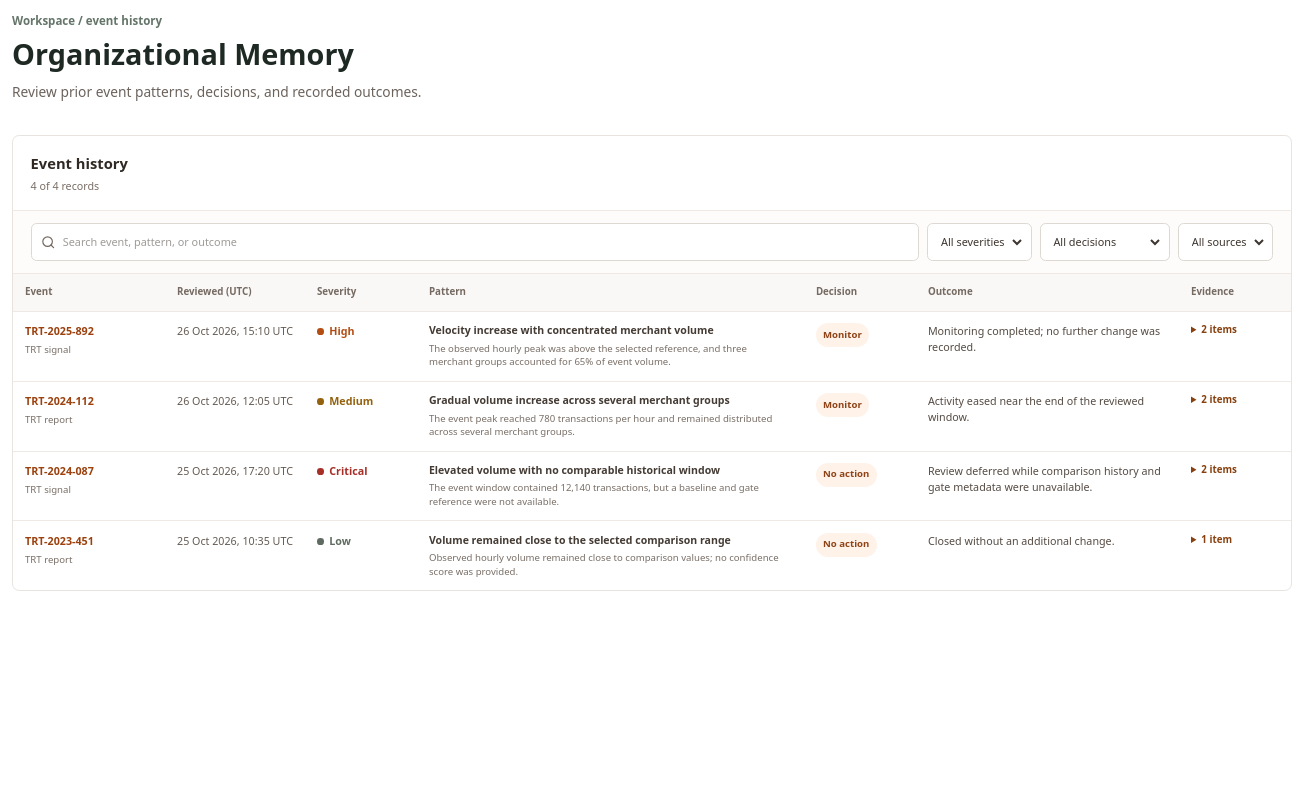
Test: MemoryPage › filters history and preserves event links and evidence
The image size is (1292, 812).
Expected: the text "4 of 4 records" is shown, [31,179,99,193]
Select "Critical" in the 1st dropdown named "Filter by severity": (981, 242) [937,224,1025,260]
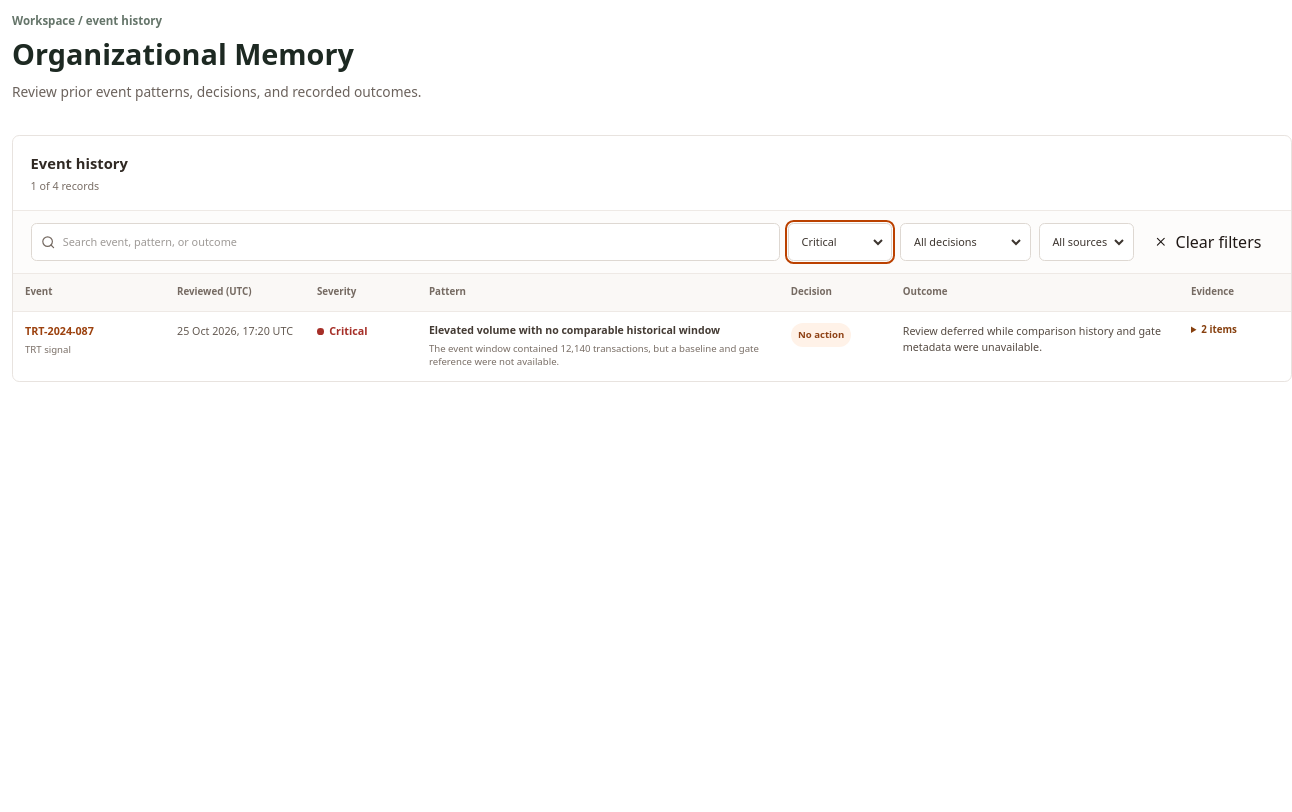
Expected: the text "1 of 4 records" is shown, [31,179,99,193]
Select "All severities" in the 1st dropdown named "Filter by severity": (842, 242) [798,224,886,260]
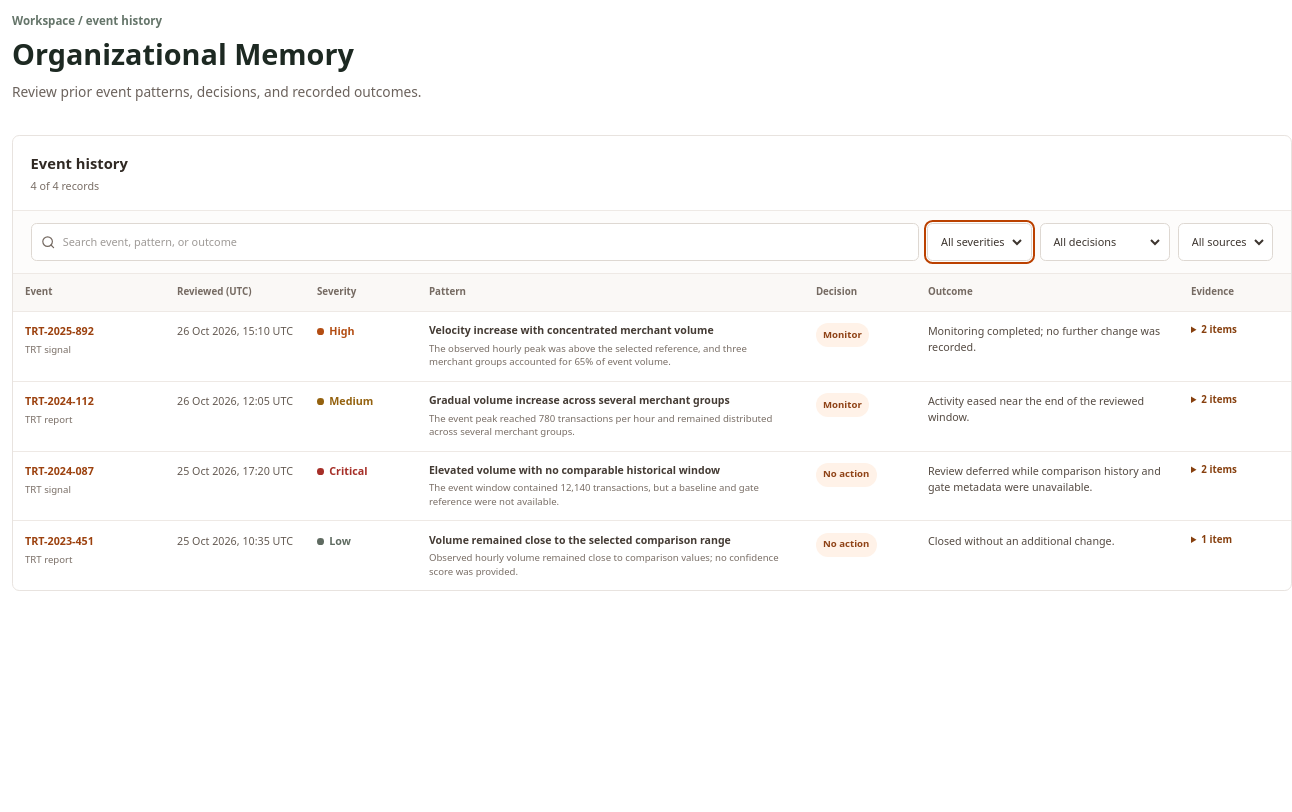
Click the heading "2 items" in the row of "TRT-2025-892": (1219, 329) [1201,323,1237,336]
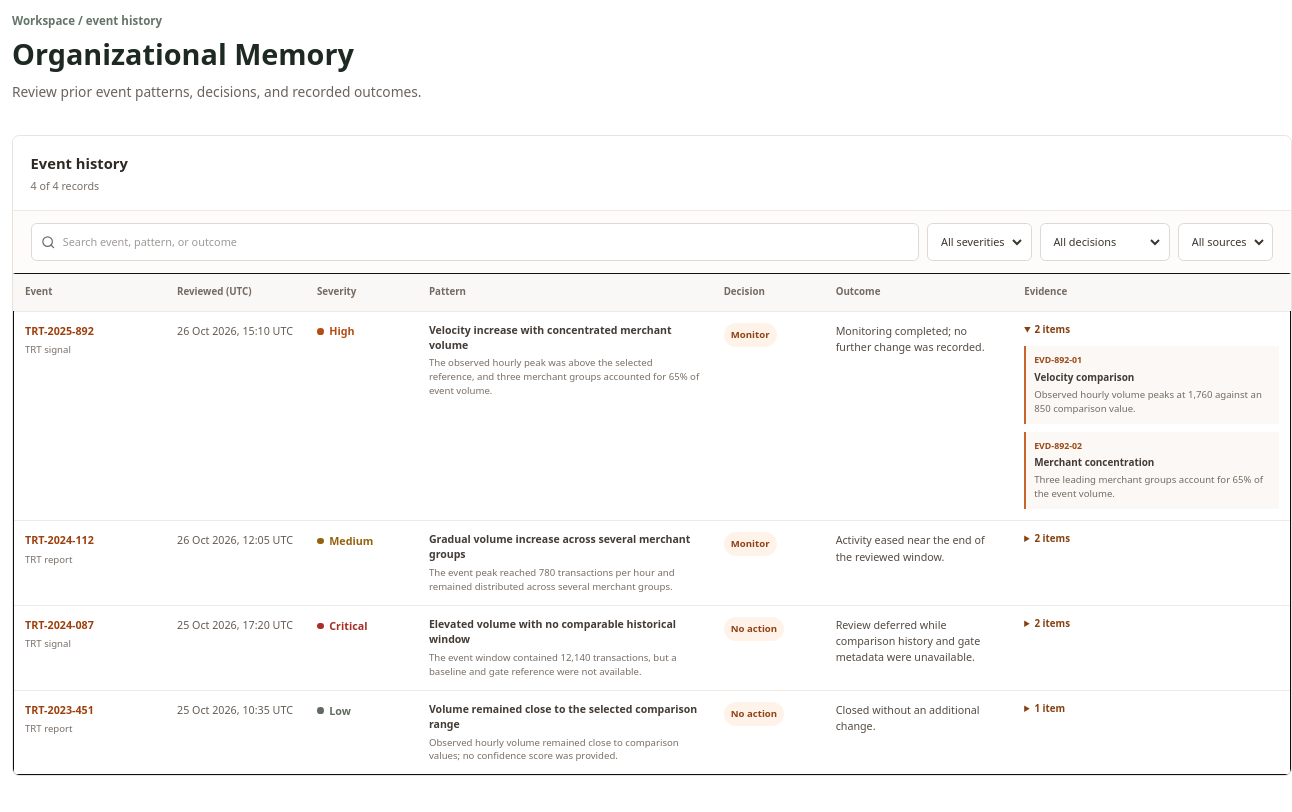
Expected: the text "EVD-892-01" is shown, [1034,354,1082,366]
Expected: the text "Velocity comparison" is shown, [1034,370,1134,384]
In the search field named "Search history": (486, 242) [63,224,909,260], type "TRT-2025-892"
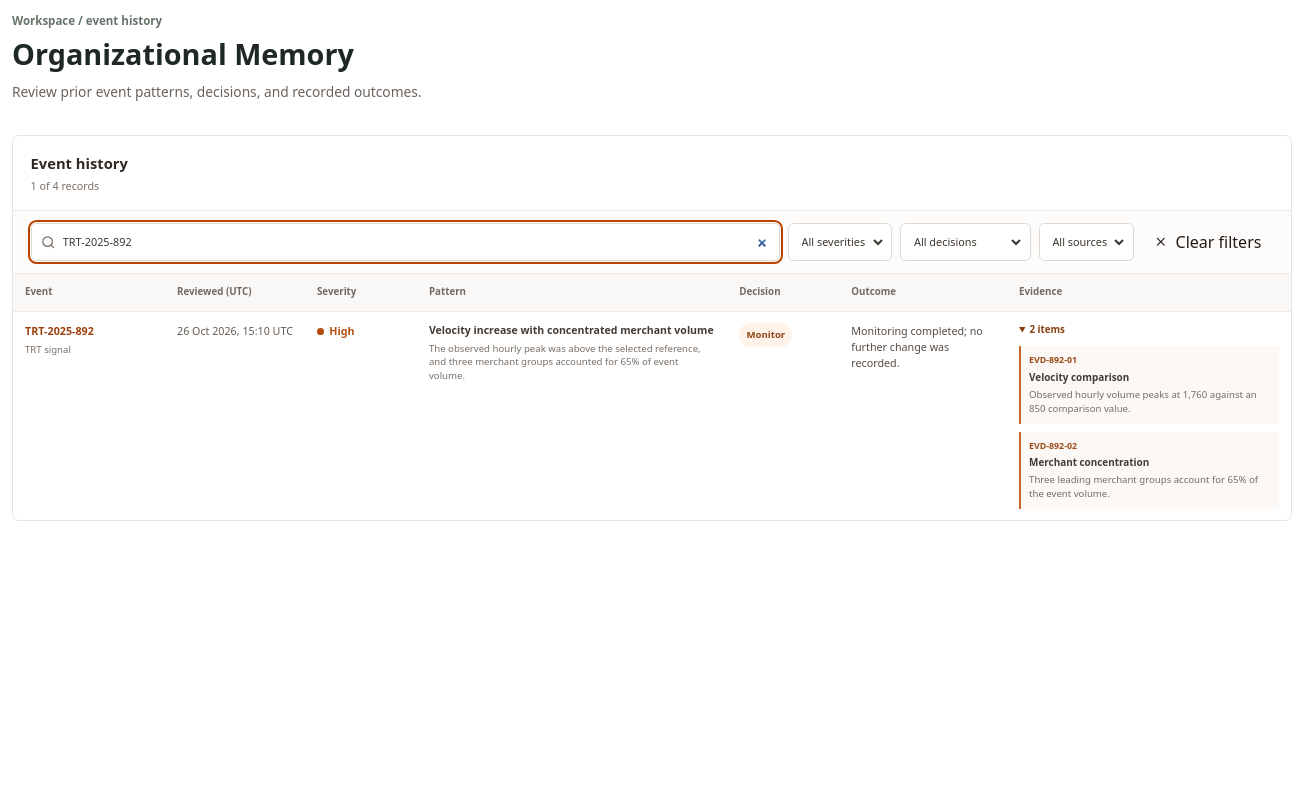
Expected: the text "1 of 4 records" is shown, [31,179,99,193]
Click the button "Clear filters": (1208, 242) [1142,226,1273,258]
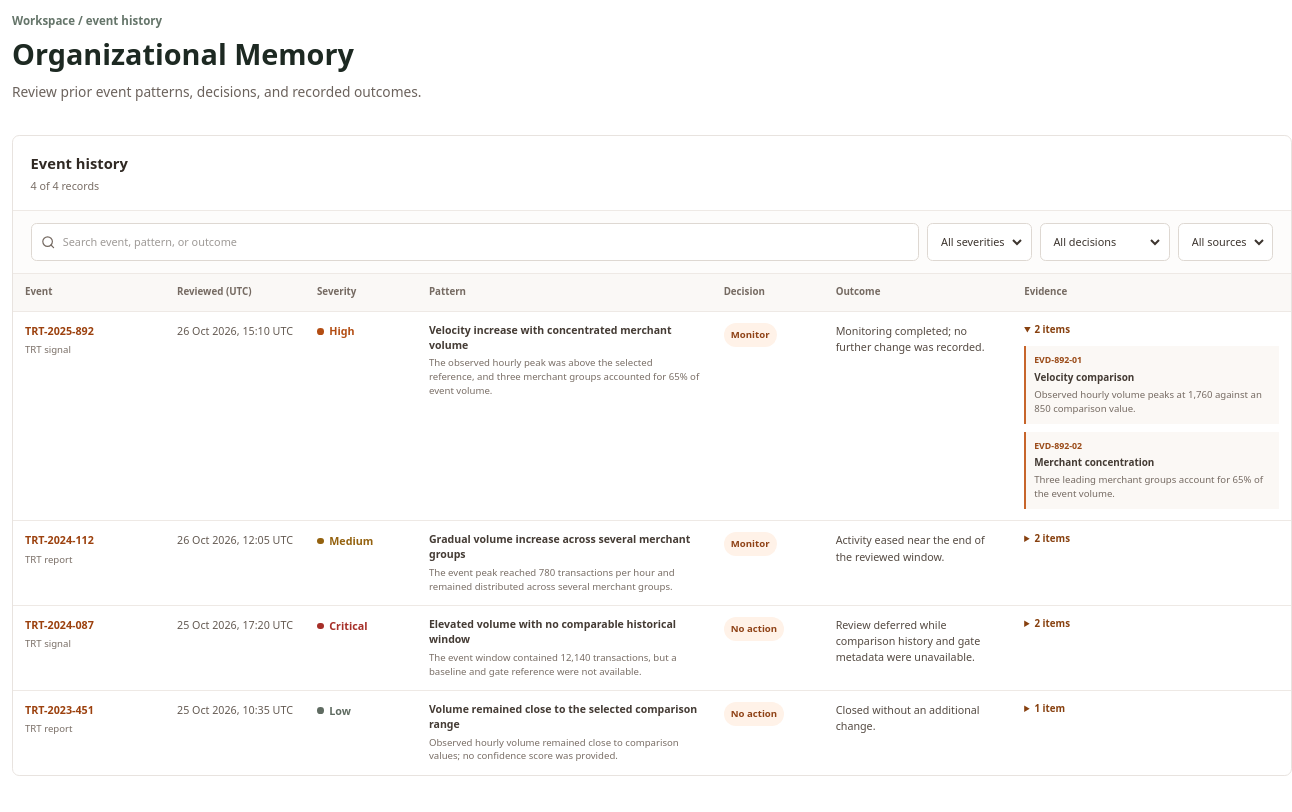
Expected: the text "4 of 4 records" is shown, [31,179,99,193]
